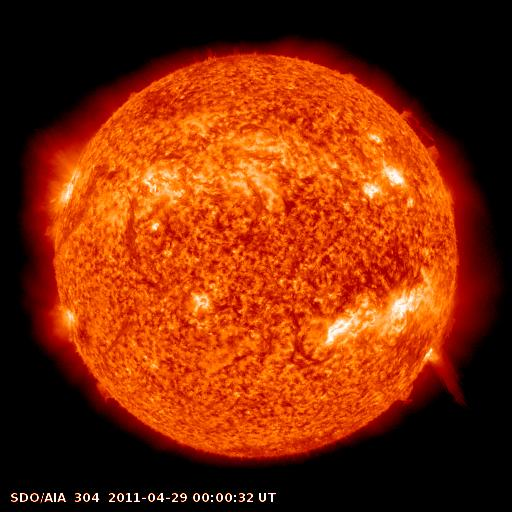prominence: (422, 314, 478, 409), (393, 102, 450, 166), (87, 375, 124, 412), (33, 215, 65, 253), (390, 378, 421, 416)
